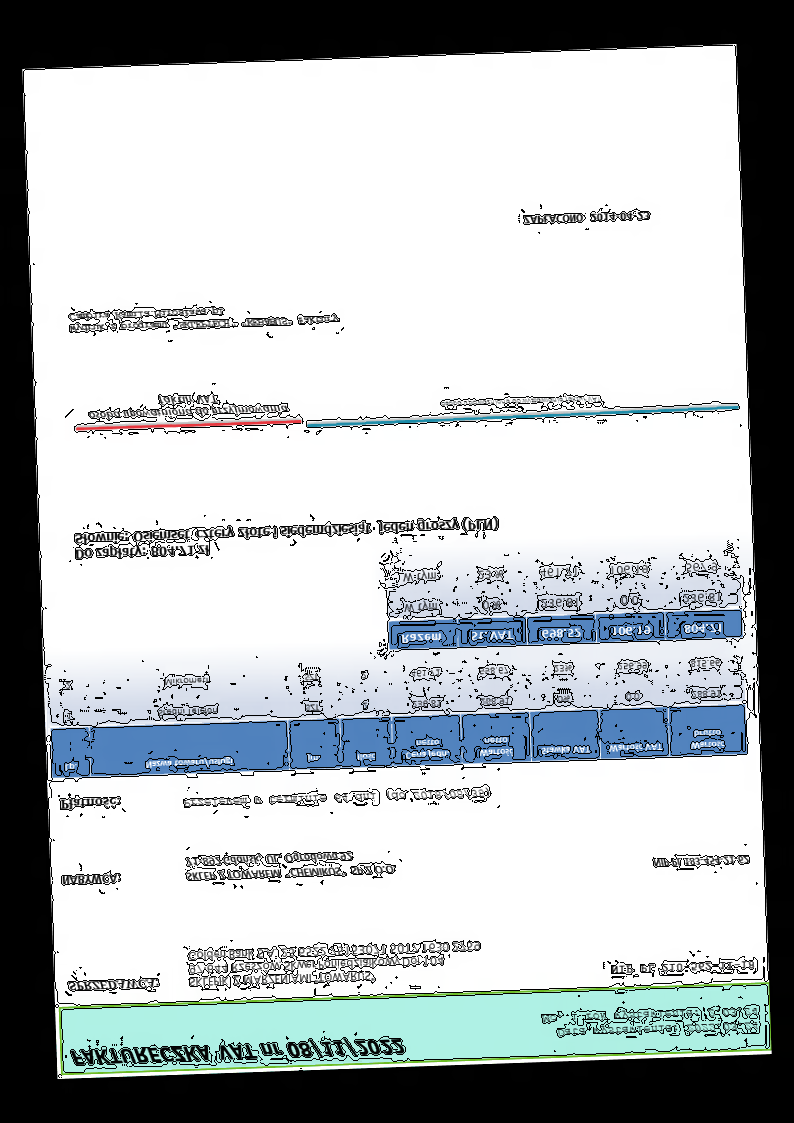Table: (47, 643, 748, 782), (384, 544, 745, 651)
TextBox: (71, 513, 502, 562), (185, 936, 484, 990), (66, 1034, 406, 1071), (66, 299, 340, 338), (539, 1003, 761, 1041), (183, 848, 395, 884), (180, 787, 491, 811), (85, 388, 290, 423), (437, 392, 605, 410), (607, 957, 756, 977), (521, 209, 653, 227), (65, 976, 160, 995), (650, 853, 750, 870), (58, 871, 122, 889), (59, 795, 121, 813)
